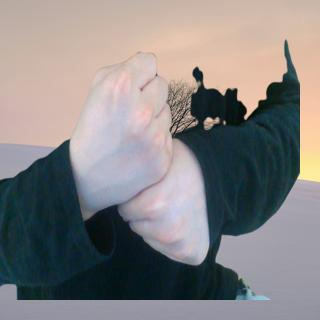CAREFUL: (68, 45, 210, 269)
